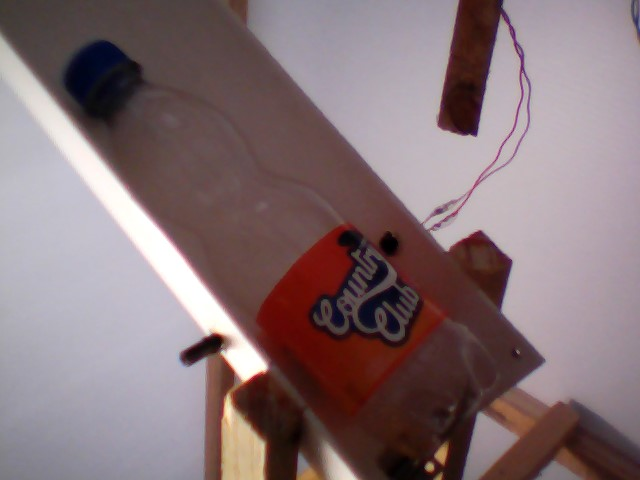plastico: (61, 38, 507, 480)
